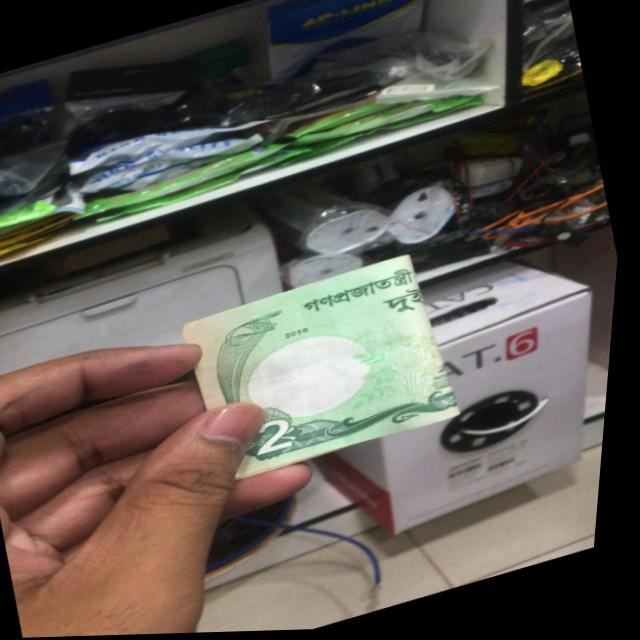Taka: (199, 250, 488, 480)
